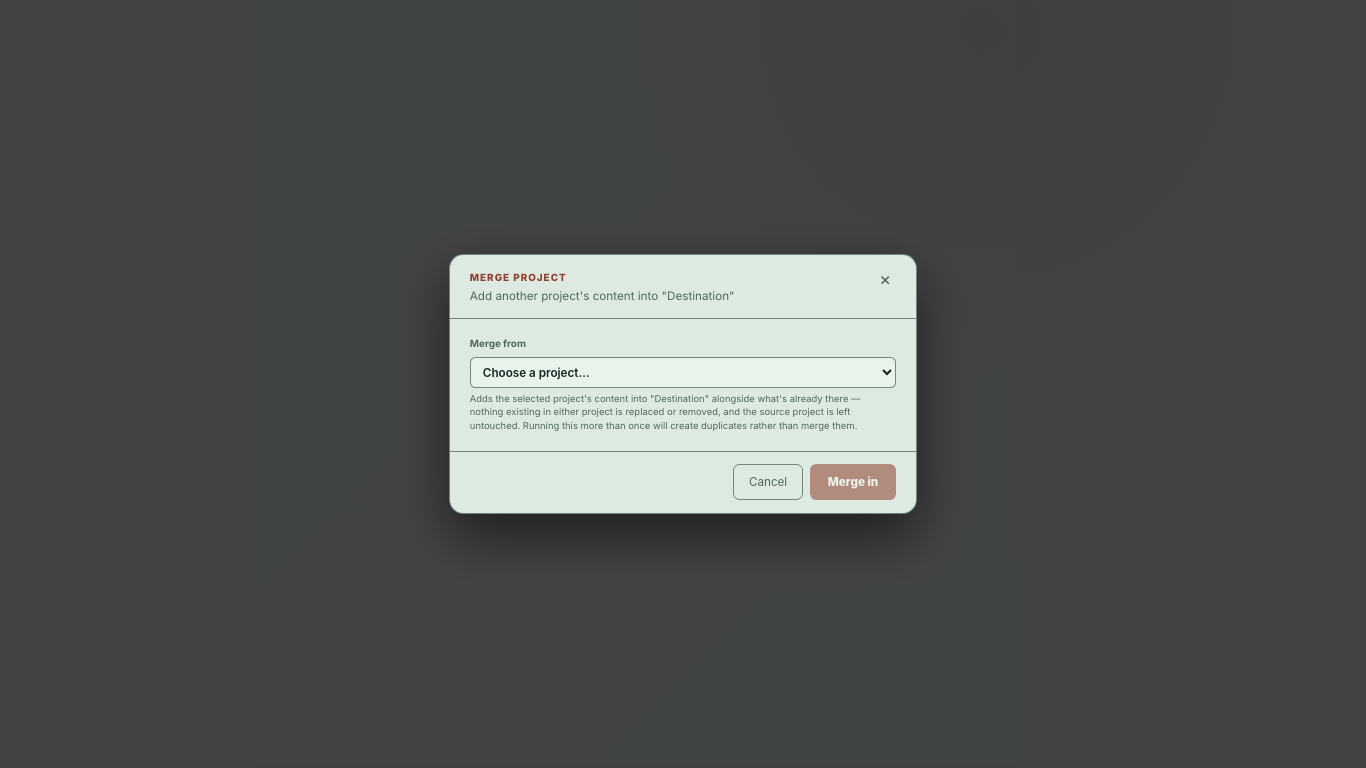
MergeProjectModal › restores the destination snapshot when population fails
Select "Source Novel" in the dropdown labelled "Merge from" at (683, 373), box [470, 357, 896, 388]
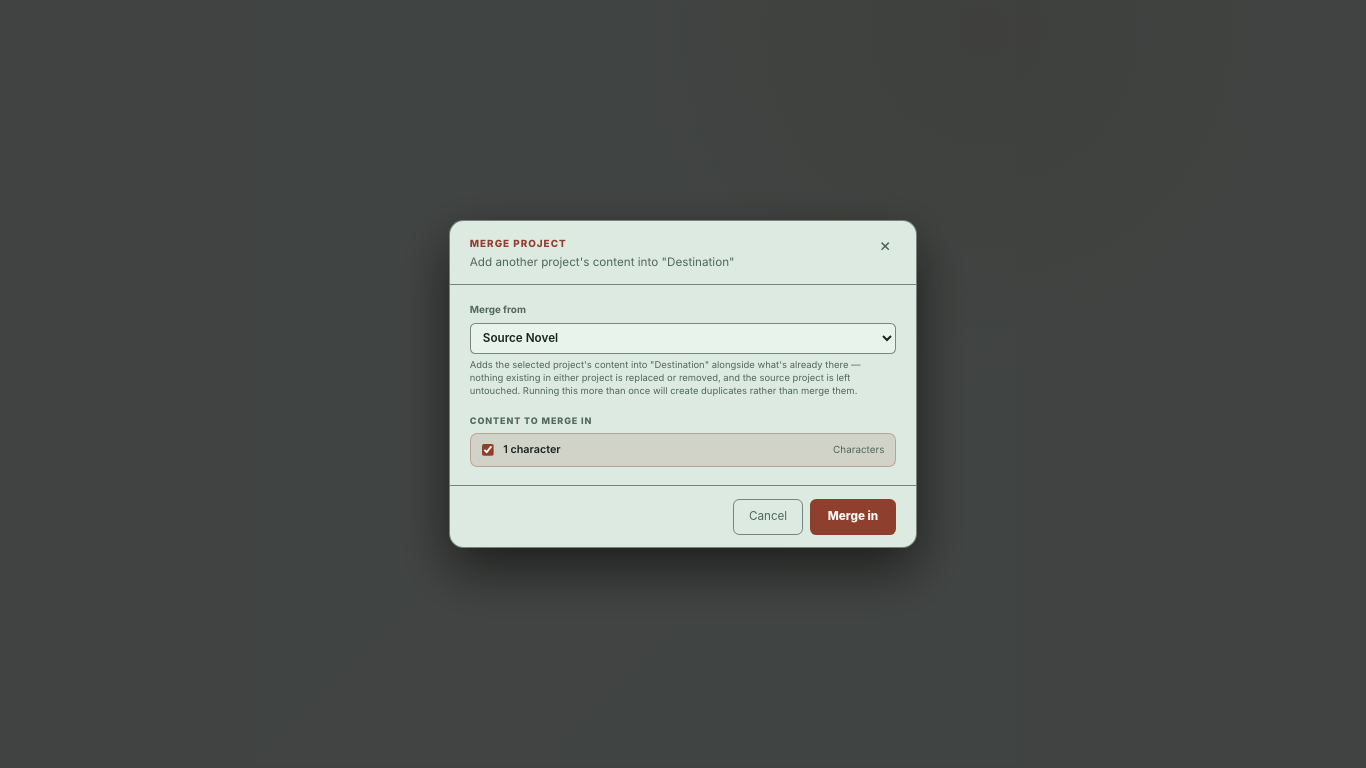
Click the button "Merge in" at (853, 517), box [810, 499, 896, 534]
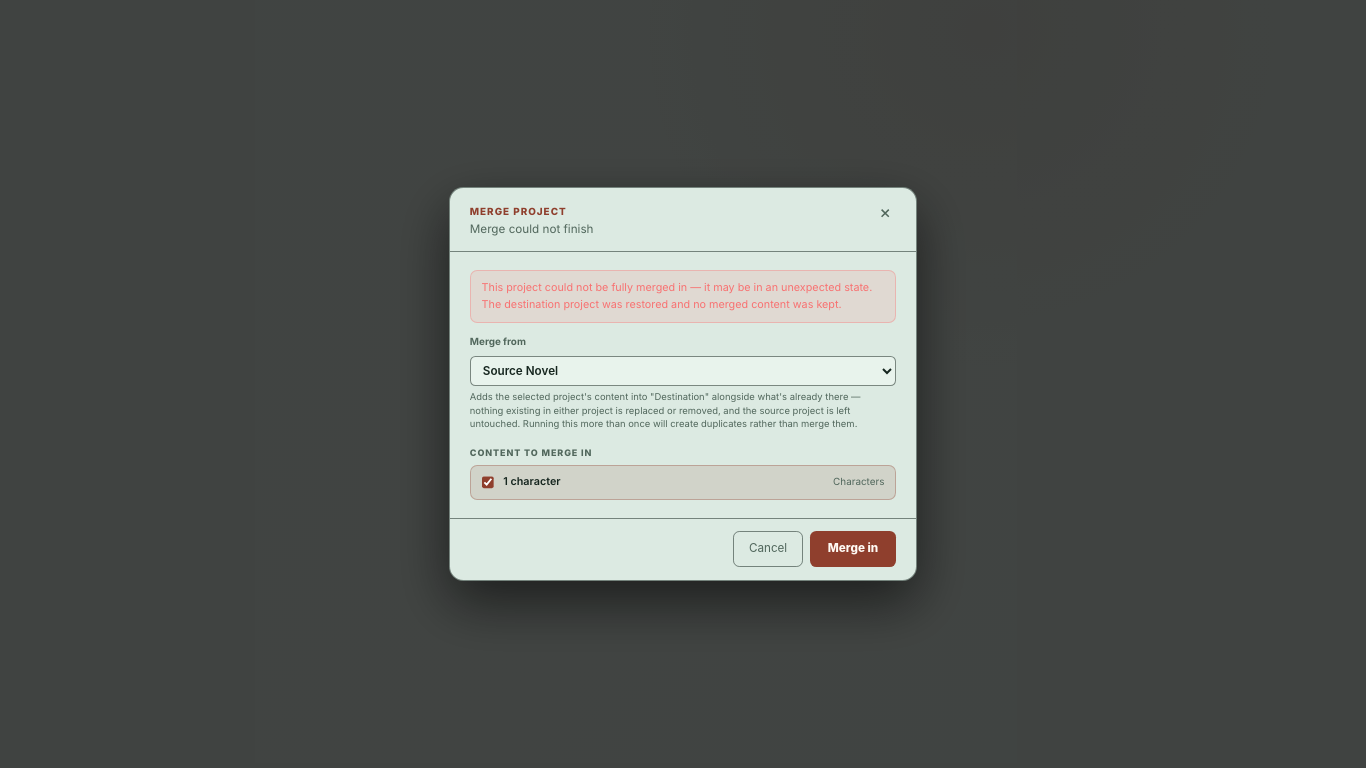
Result: the text "destination project was restored" is shown at [482, 281, 872, 311]
